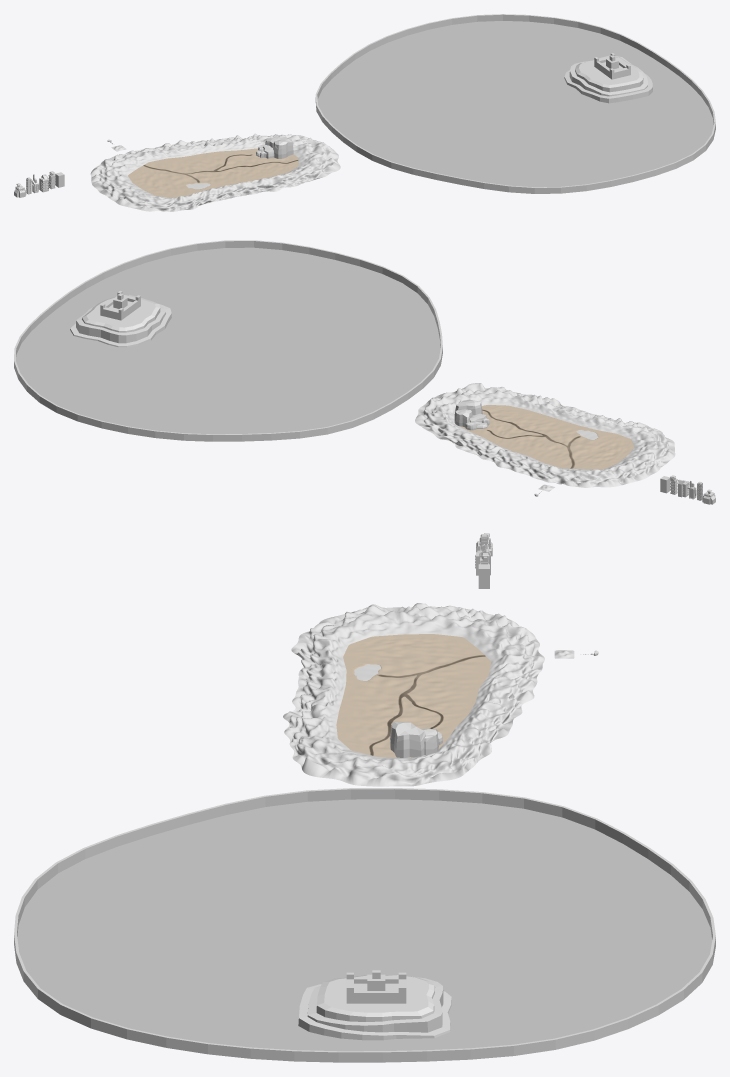
File: BlockingAssets.fbx
3 renders of one model, top to bottom at view 1: azimuth 30°, elevation 25°; view 2: azimuth 150°, elevation 25°; view 3: azimuth 270°, elevation 25°, orthographic. The views are drawn at different scales.
Visible parts, largest first — view 1: GroundCity, Dunes, Walls, Ground, Castle Mountain, QuestMountain, Cube; view 2: GroundCity, Dunes, Walls, Ground, Castle Mountain, QuestMountain, Cube; view 3: GroundCity, Dunes, Walls, Ground, Castle Mountain, Cube, QuestMountain.
Part boxes in pixels (<box>): GroundCity: <box>317,21,713,187</box>; Dunes: <box>90,133,340,211</box>; Walls: <box>315,14,715,193</box>; Ground: <box>128,148,298,197</box>; Castle Mountain: <box>564,55,652,103</box>; QuestMountain: <box>256,136,293,158</box>; Cube: <box>594,53,630,79</box>; GroundCity: <box>16,247,440,434</box>; Dunes: <box>415,383,675,487</box>; Walls: <box>14,240,442,441</box>; Ground: <box>460,405,634,469</box>; Castle Mountain: <box>70,294,171,347</box>; QuestMountain: <box>454,399,489,430</box>; Cube: <box>100,291,140,320</box>; GroundCity: <box>17,799,712,1051</box>; Dunes: <box>283,603,544,786</box>; Walls: <box>14,788,715,1062</box>; Ground: <box>336,634,491,757</box>; Castle Mountain: <box>298,975,451,1040</box>; Cube: <box>346,970,406,1003</box>; QuestMountain: <box>390,721,442,757</box>.
Size of the model in its own units: 376646 by 17149 by 218062.
